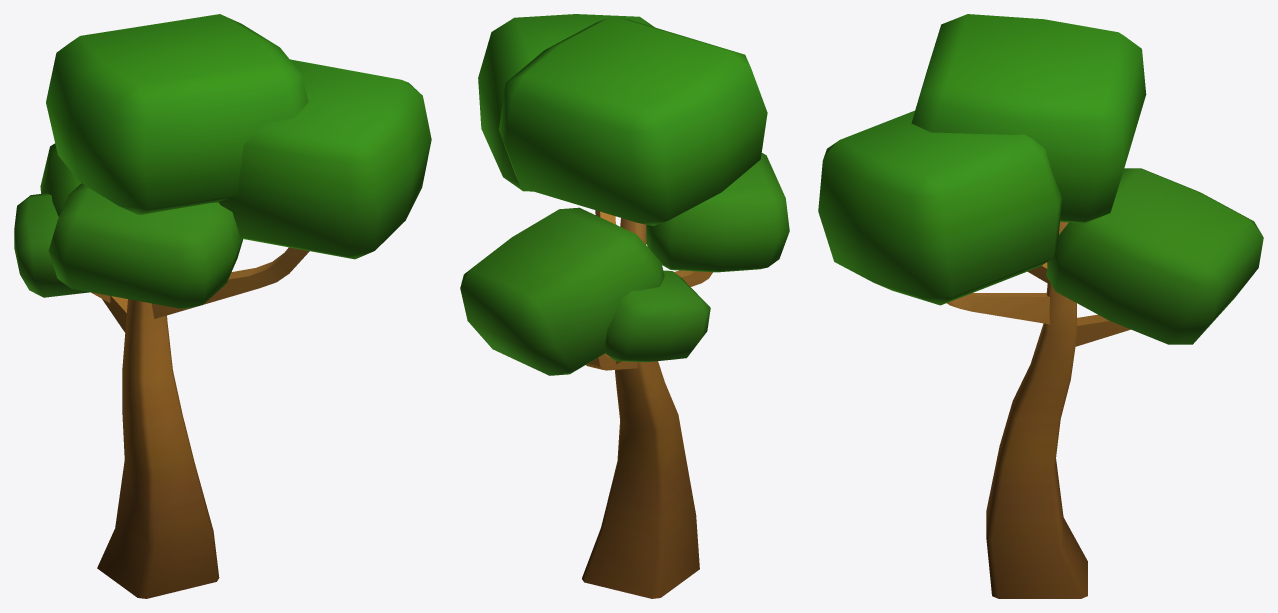
File: Tree_C_7_.fbx
The picture shows the model from 3 angles, left to right: view 1: azimuth 30°, elevation 25°; view 2: azimuth 150°, elevation 25°; view 3: azimuth 270°, elevation 25°; orthographic projection. The views are drawn at different scales.
Visible parts, largest first — view 1: Tree_C_7; view 2: Tree_C_7; view 3: Tree_C_7.
Part boxes in pixels (left/top/right/bottom): Tree_C_7: left=14, top=14, right=431, bottom=598; Tree_C_7: left=460, top=14, right=789, bottom=598; Tree_C_7: left=818, top=14, right=1263, bottom=598.
Size of the model in its own units: 295 by 438 by 329.
